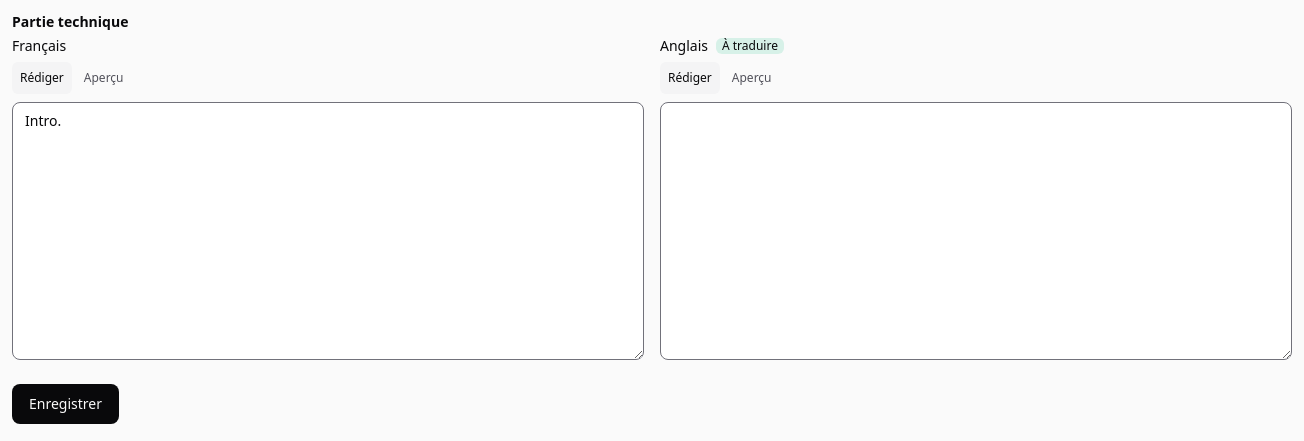
a preview whose code cannot load › says so, and keeps the form and its text
Click the button named "Aperçu français": x=104, y=78 [76, 62, 132, 94]
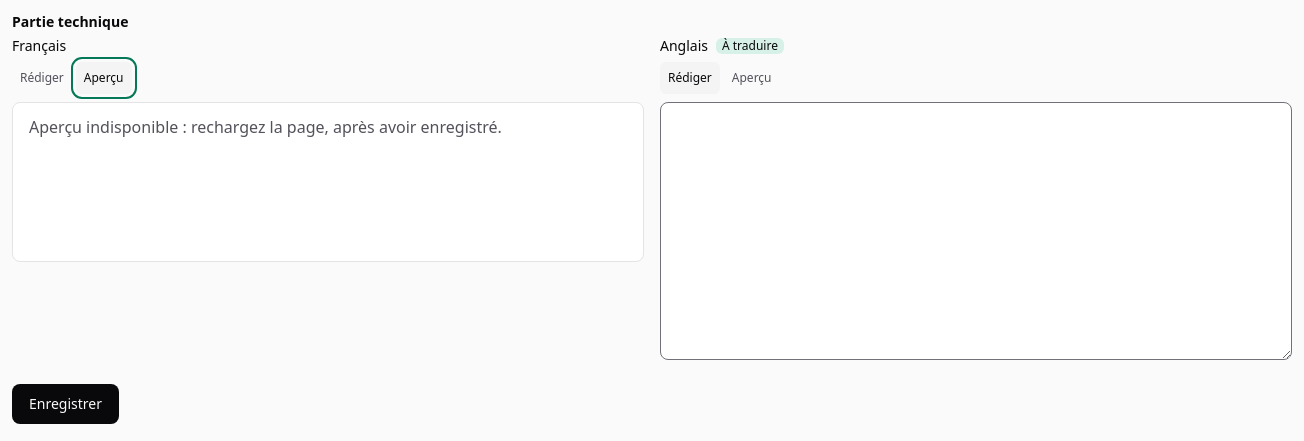
Expected: the text "Aperçu indisponible : rechargez la page, après avoir enregistré." is shown, [29, 116, 502, 138]
Click the button named "Rédiger français": x=42, y=78 [12, 62, 72, 94]
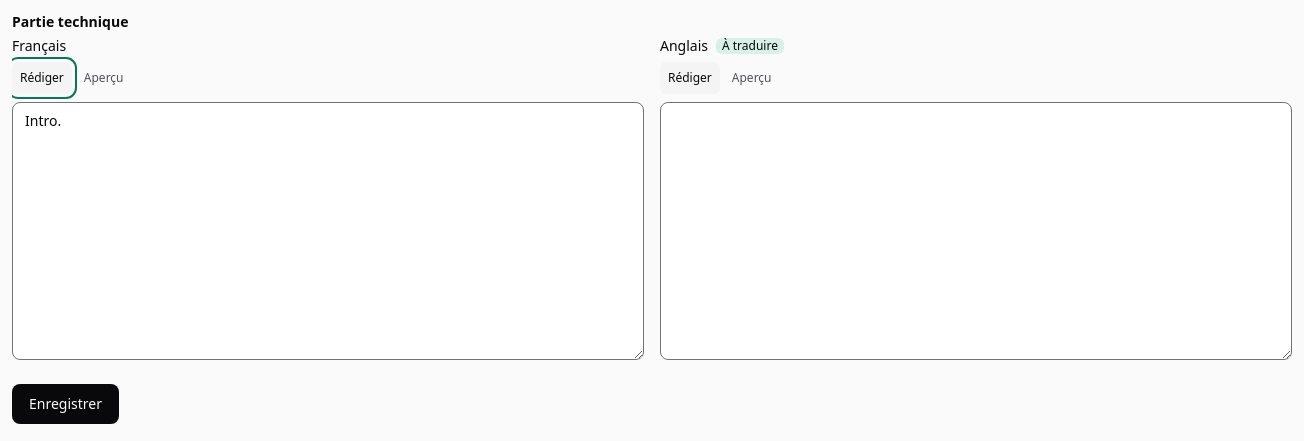
Expected: the text box labelled "Français" holds "Intro.", [12, 102, 644, 360]
